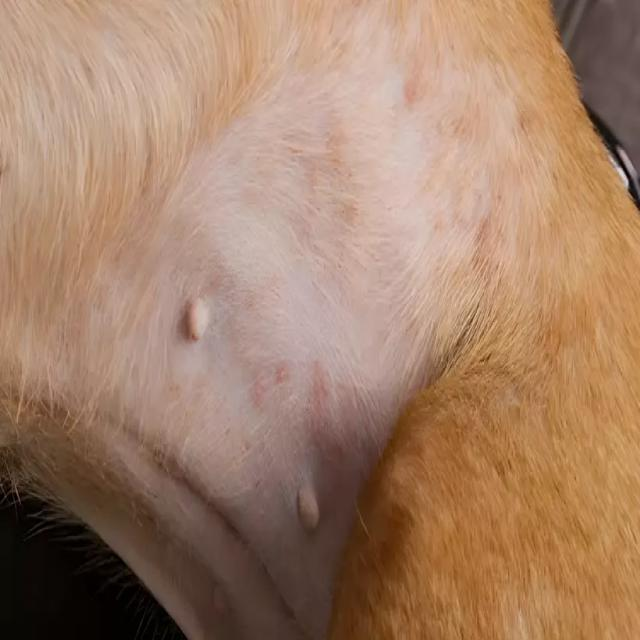allergic dermatitis: (247, 338, 376, 462)
